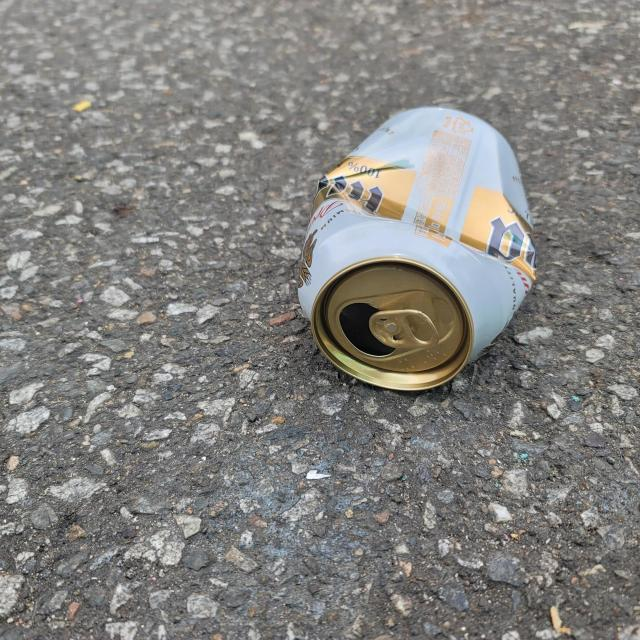can: (298, 107, 537, 391)
